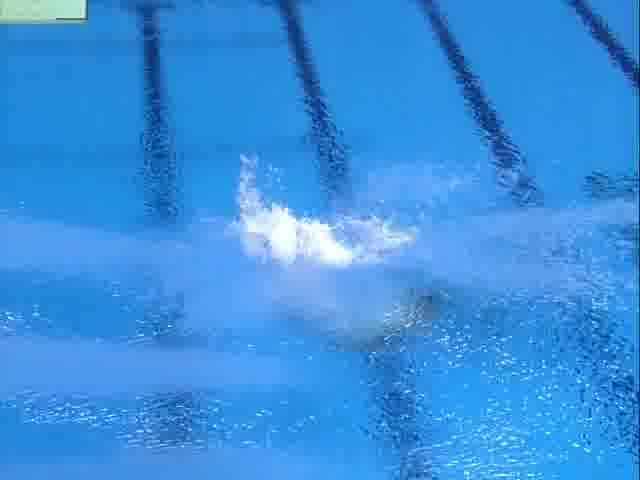core: (265, 212, 336, 265)
periphery: (215, 145, 493, 355)
